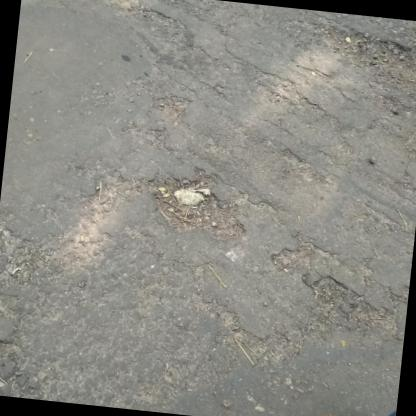pothole: (140, 170, 252, 245), (313, 25, 416, 103), (268, 235, 328, 270), (150, 90, 194, 126), (308, 272, 354, 306)
